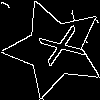X: (29, 24, 86, 72)
